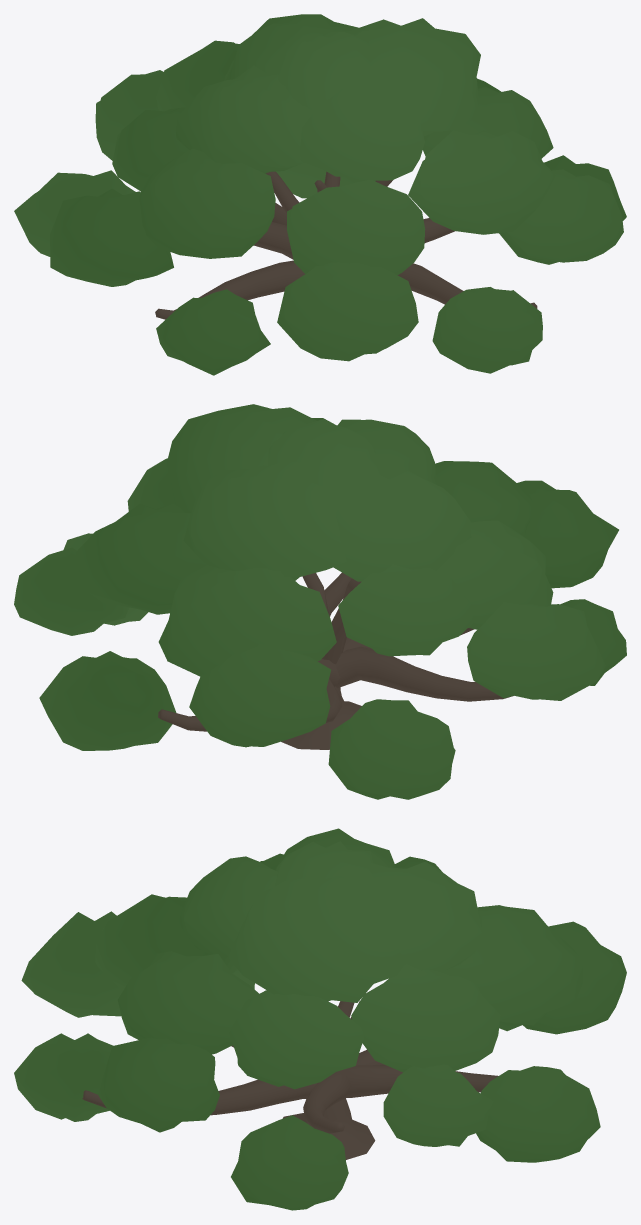
The model's file is Blender_LiveOak_2.glb.
The picture shows the model from 3 angles, top to bottom: view 1: azimuth 30°, elevation 25°; view 2: azimuth 150°, elevation 25°; view 3: azimuth 270°, elevation 25°; orthographic projection. The views are drawn at different scales.
Visible parts, largest first — view 1: Blender_LiveOak_2; view 2: Blender_LiveOak_2; view 3: Blender_LiveOak_2.
Boxes of the visible parts, box(x1,y1,x2,y2) form: Blender_LiveOak_2: box(14, 14, 626, 375); Blender_LiveOak_2: box(14, 404, 626, 799); Blender_LiveOak_2: box(14, 828, 626, 1210).
Size of the model in its own units: 26.21 by 13.25 by 25.29.
